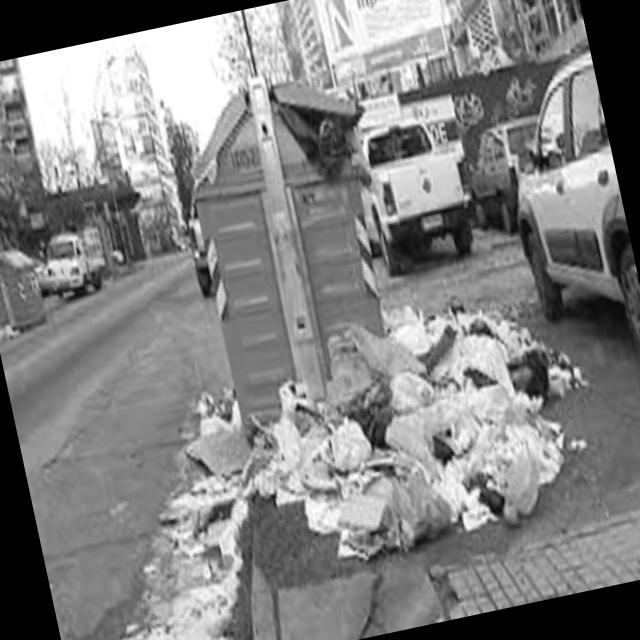high trash: (123, 306, 583, 640)
